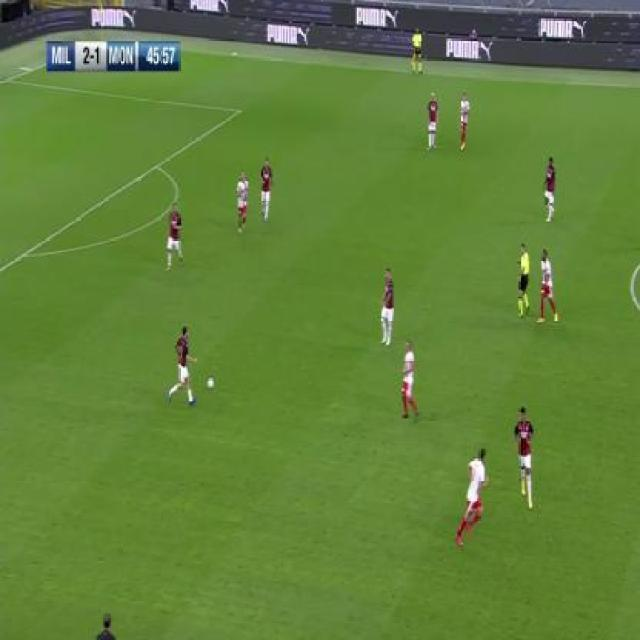ball: (207, 374, 216, 393)
player: (455, 449, 491, 549), (169, 324, 200, 409), (513, 403, 536, 516), (399, 338, 422, 420), (537, 248, 560, 327), (377, 266, 397, 348), (166, 200, 185, 273), (516, 240, 533, 319), (541, 155, 558, 224), (258, 154, 275, 223), (235, 169, 251, 237), (457, 89, 471, 154), (426, 90, 440, 153), (410, 24, 424, 77)
